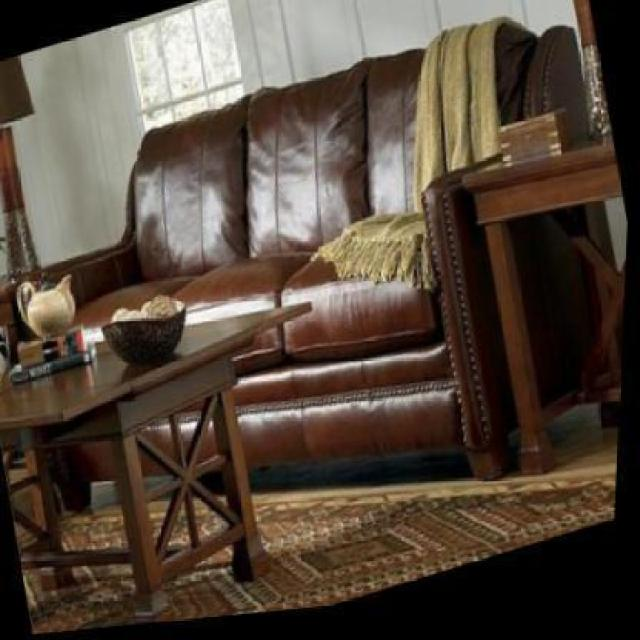tables: (0, 299, 312, 615)
